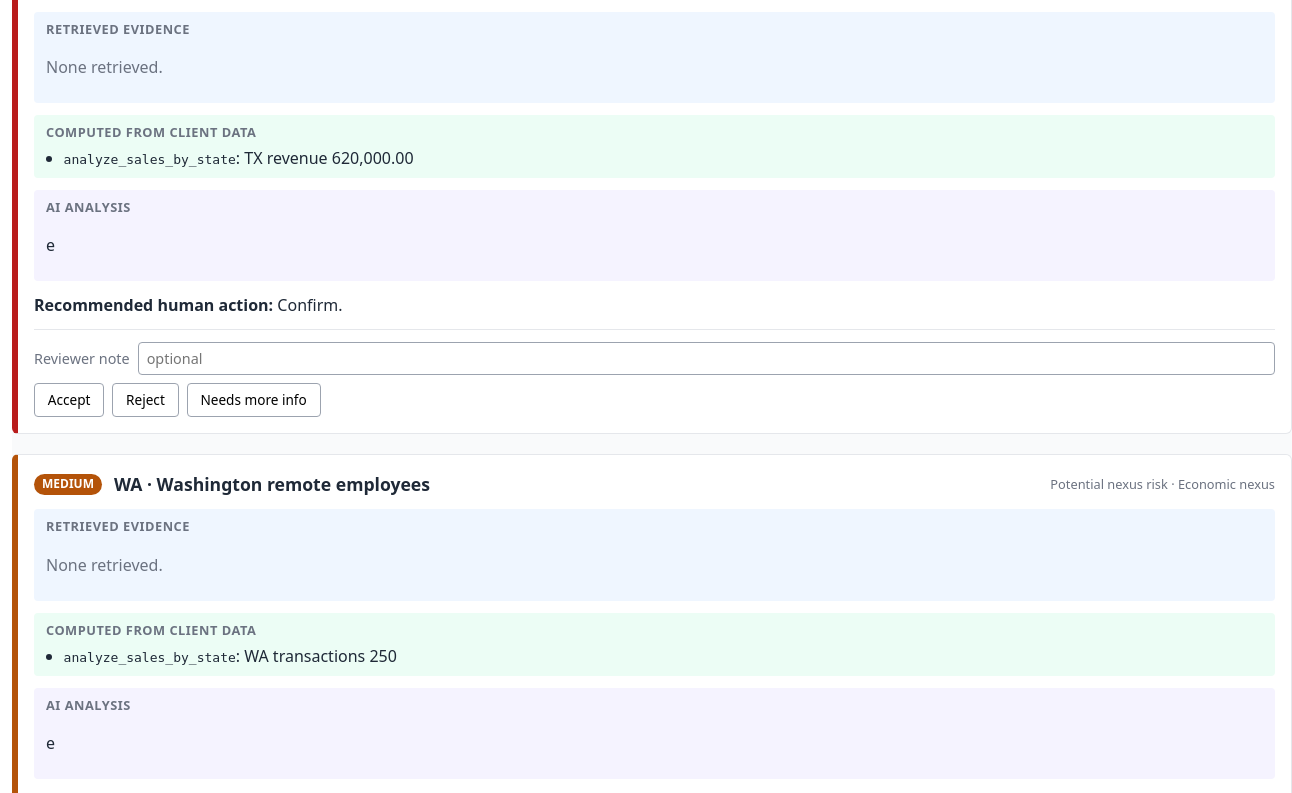
FindingsView › records a decision and updates the counter
This screenshot has width=1292, height=793.
(page scrolled)
Click the button "Reject" at (145, 400), box [112,384,179,417]
(page scrolled)
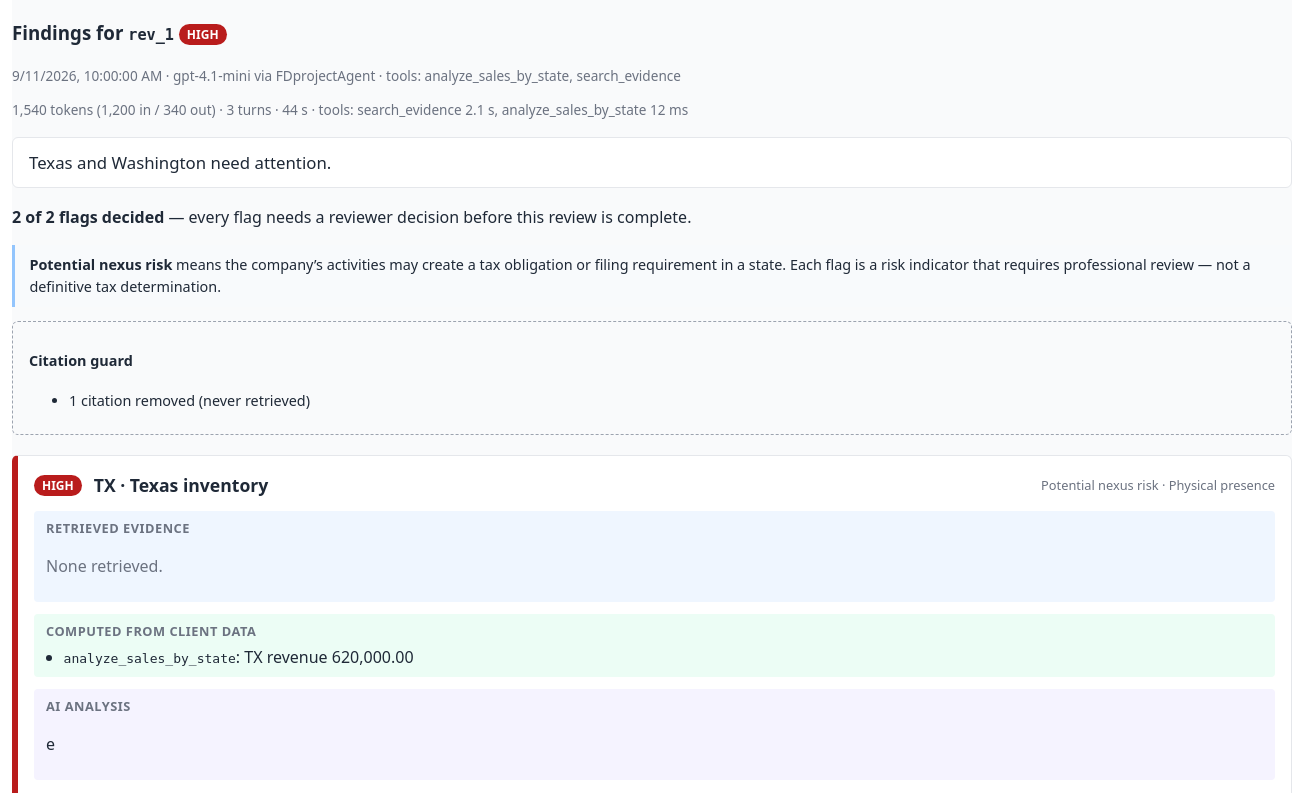
Expected: the text "2 of 2 flags decided" is shown, [12,206,164,228]
